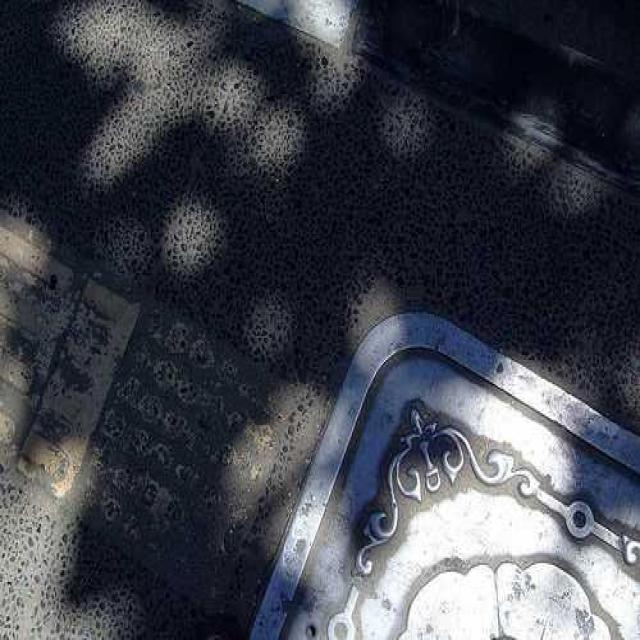manhole: (251, 312, 640, 639)
